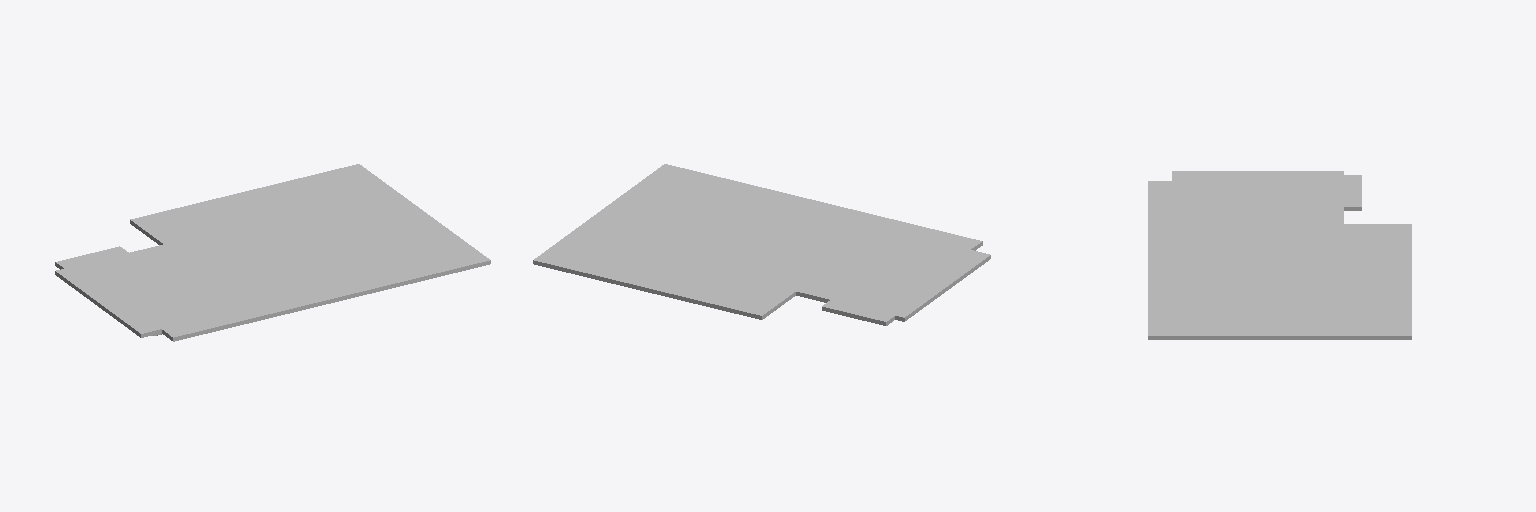
File: roof.obj
The picture shows the model from 3 angles: view 1: azimuth 30°, elevation 25°; view 2: azimuth 150°, elevation 25°; view 3: azimuth 270°, elevation 25°; orthographic projection.
Visible parts, largest first — view 1: roof_Cube.042; view 2: roof_Cube.042; view 3: roof_Cube.042.
Part boxes in pixels (x1,y1,x2,y2): roof_Cube.042: (55,164,490,341); roof_Cube.042: (533,164,990,325); roof_Cube.042: (1148,171,1411,339).
Bounding box in the file's own units: 17.03 × 0.2701 × 11.51.